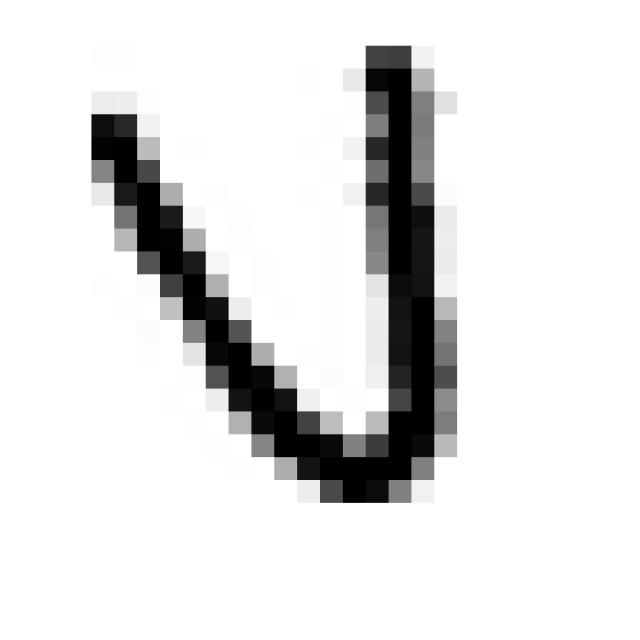7 -seven-: (64, 23, 470, 524)
